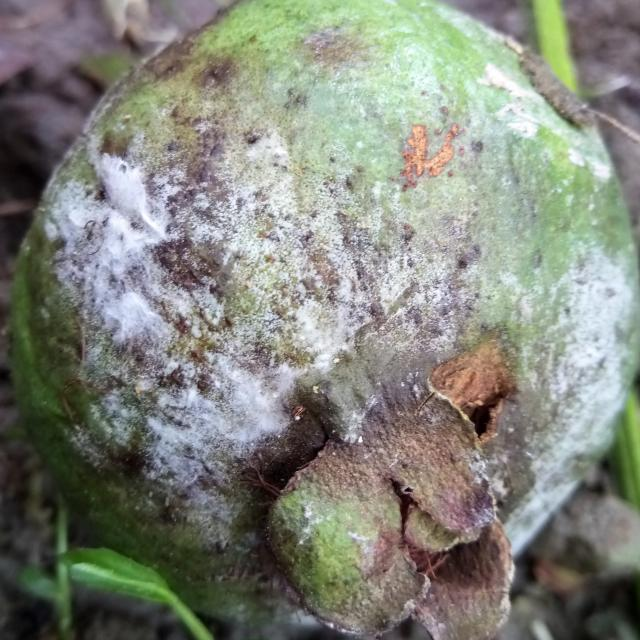Phytopthora: (14, 3, 639, 638)
